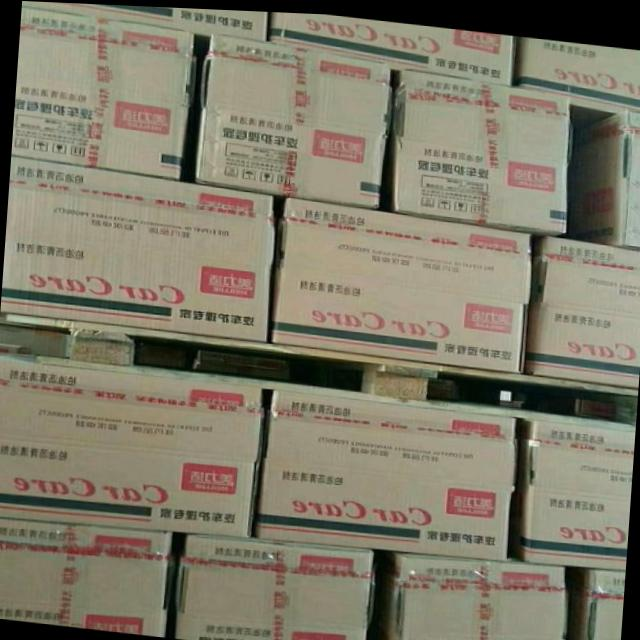box: (0, 156, 274, 340), (0, 357, 261, 535), (272, 195, 532, 368), (252, 388, 515, 558), (195, 32, 390, 204), (12, 7, 198, 178), (384, 66, 572, 231), (175, 533, 370, 640), (0, 519, 171, 635), (512, 414, 634, 564), (372, 547, 563, 640), (270, 9, 515, 80), (525, 231, 640, 381), (571, 104, 640, 244), (23, 1, 268, 39), (515, 32, 640, 105), (570, 562, 624, 640), (568, 92, 624, 120)
